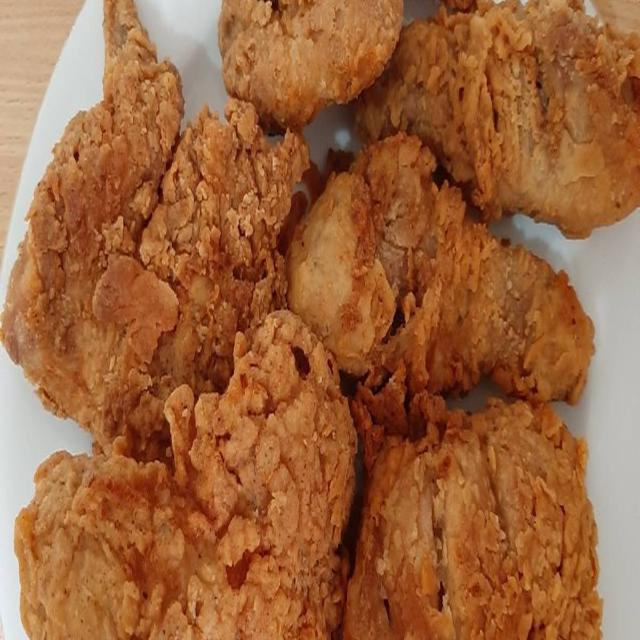Frango: (16, 312, 358, 640), (296, 132, 592, 408), (358, 404, 602, 640)
